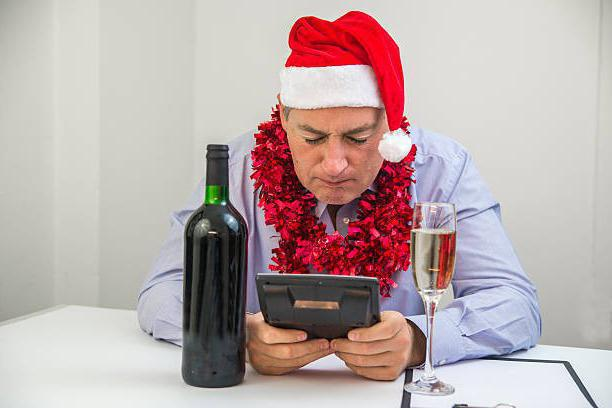Drunk: (290, 105, 382, 206)
